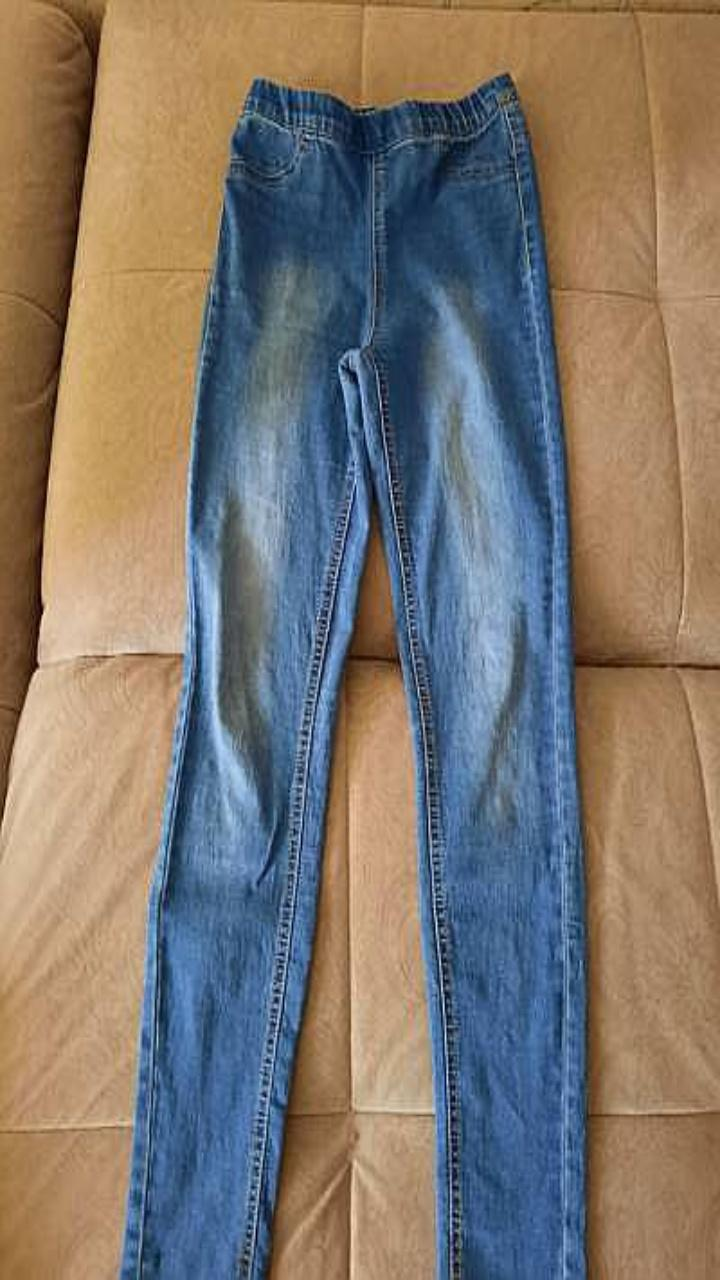Jeans: (121, 72, 585, 1279)
